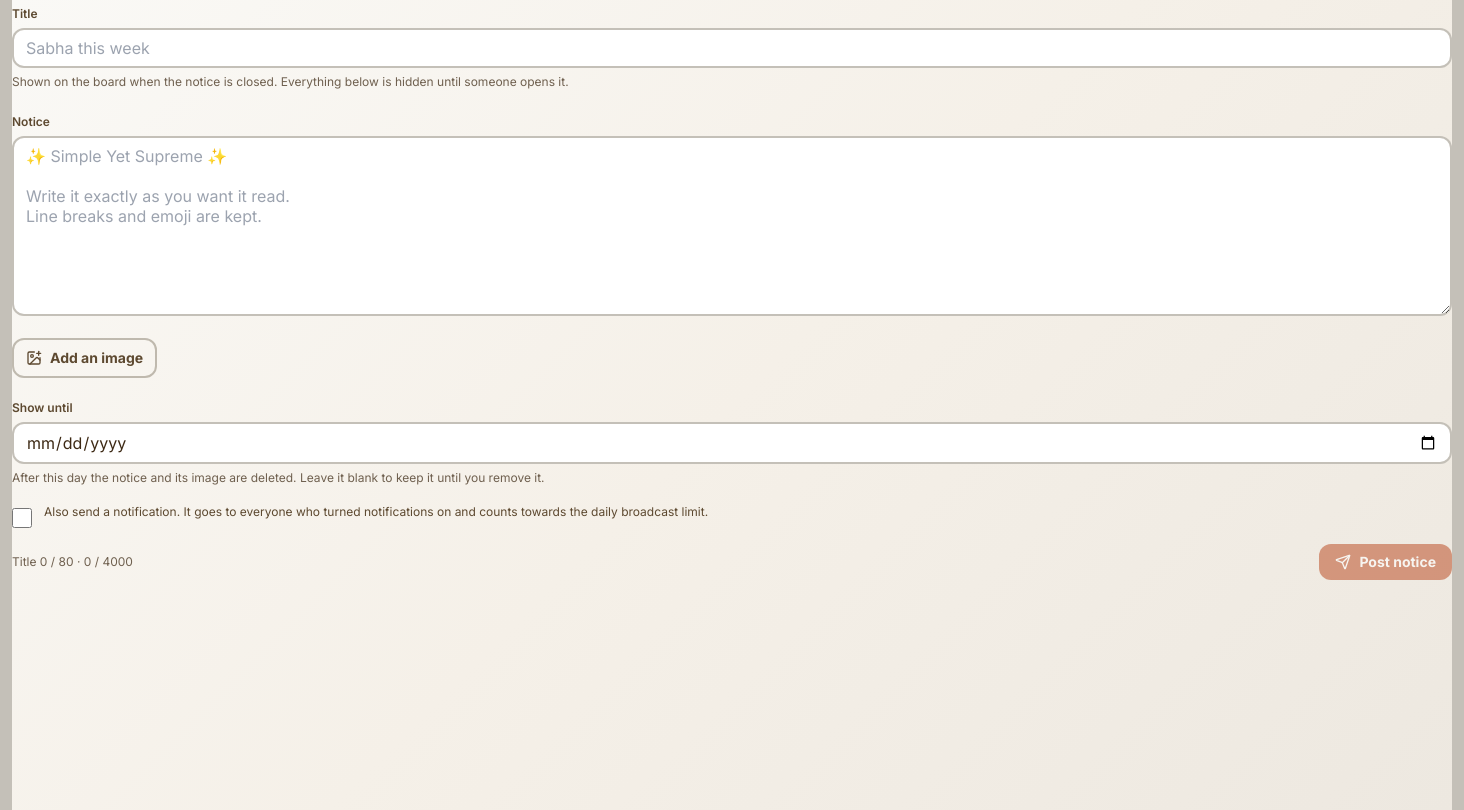
Test: the title field › surfaces the server refusal rather than clearing the form
The width and height of the screenshot is (1464, 810).
Type "Sabha moved" into the field labelled "Title" at (732, 48), box 12,28 -> 1452,68
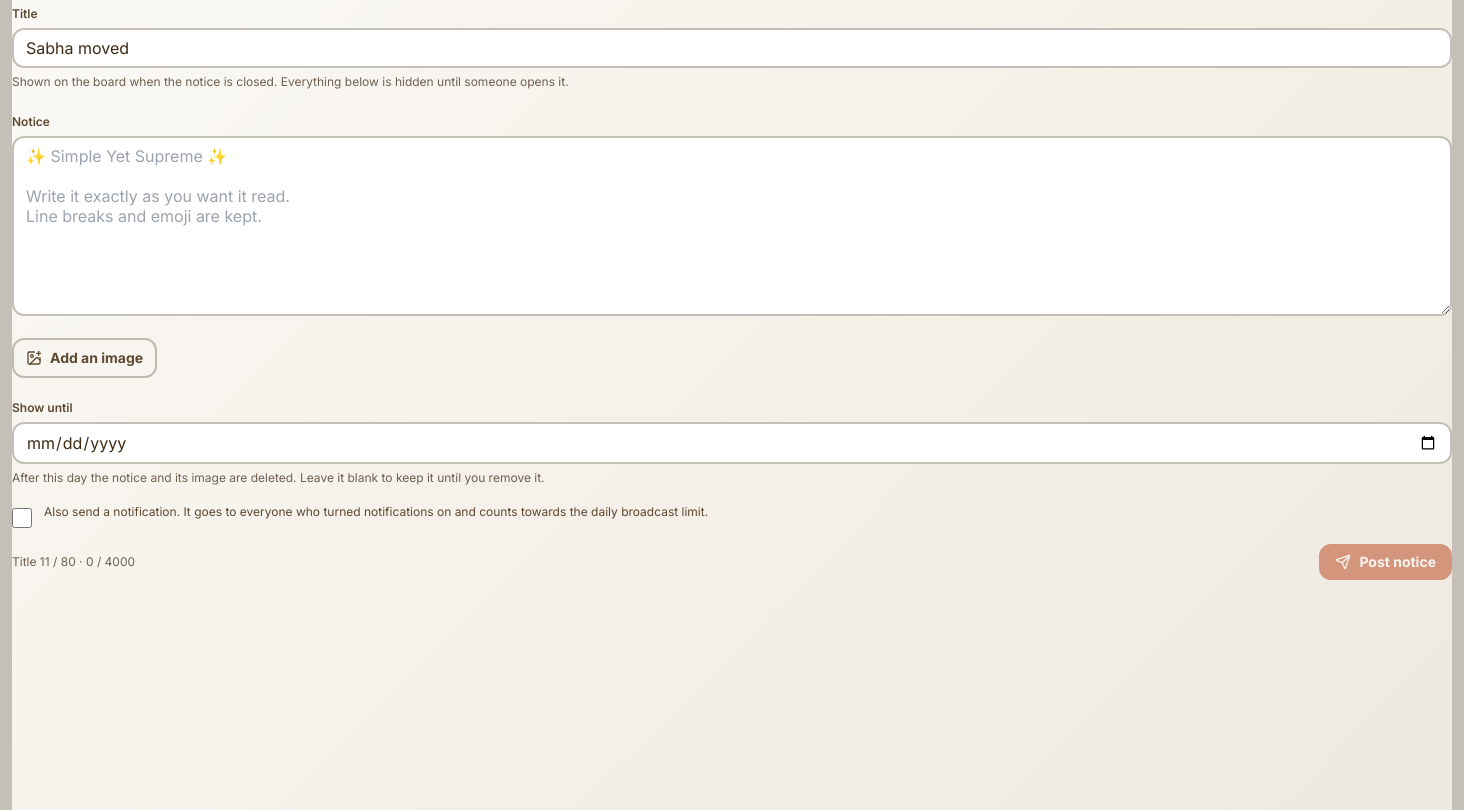
Replace the text in the text box labelled "Notice" with "x" at (732, 226), box 12,136 -> 1452,316
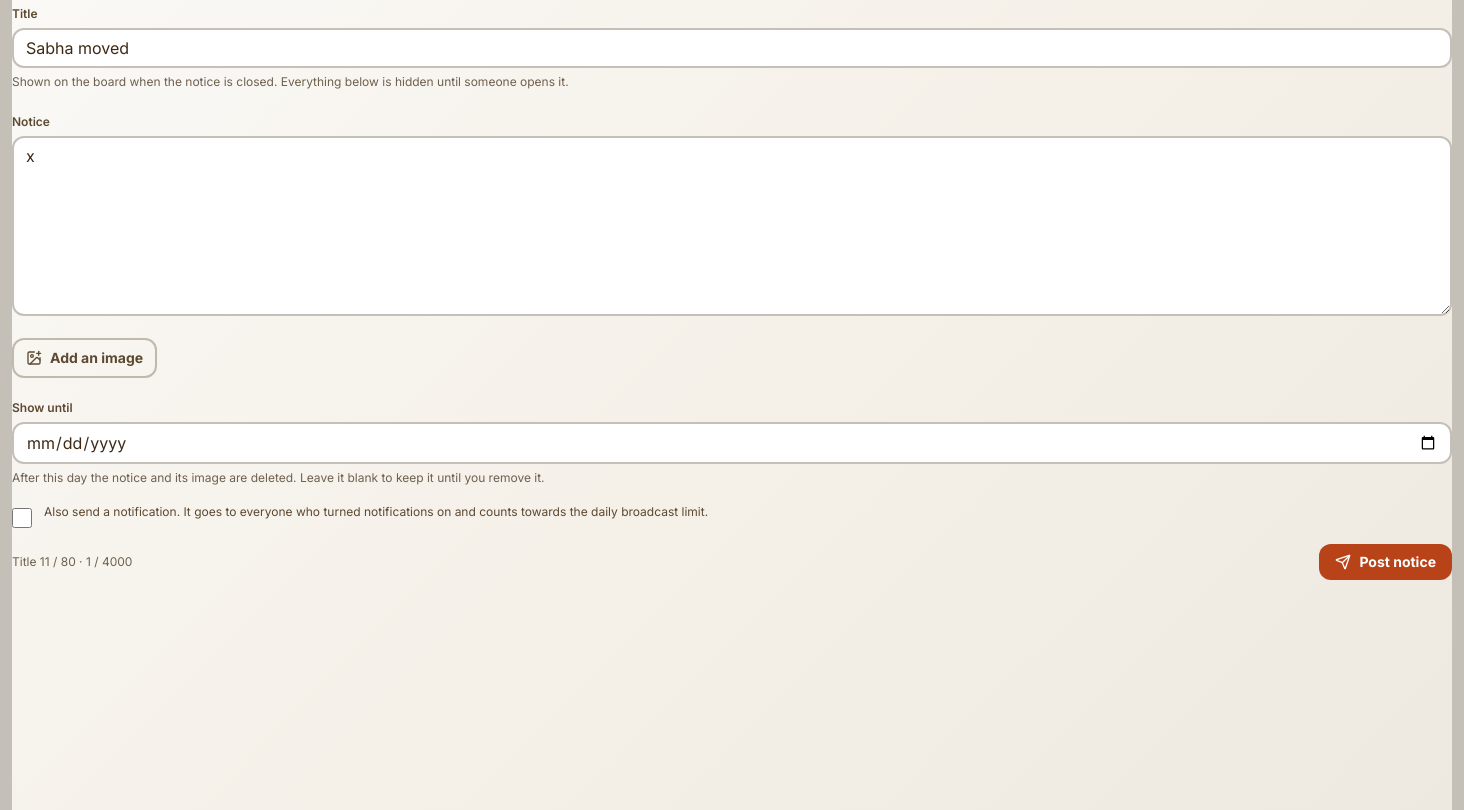
Click the button "Post notice" at (1386, 562), box 1319,544 -> 1452,580
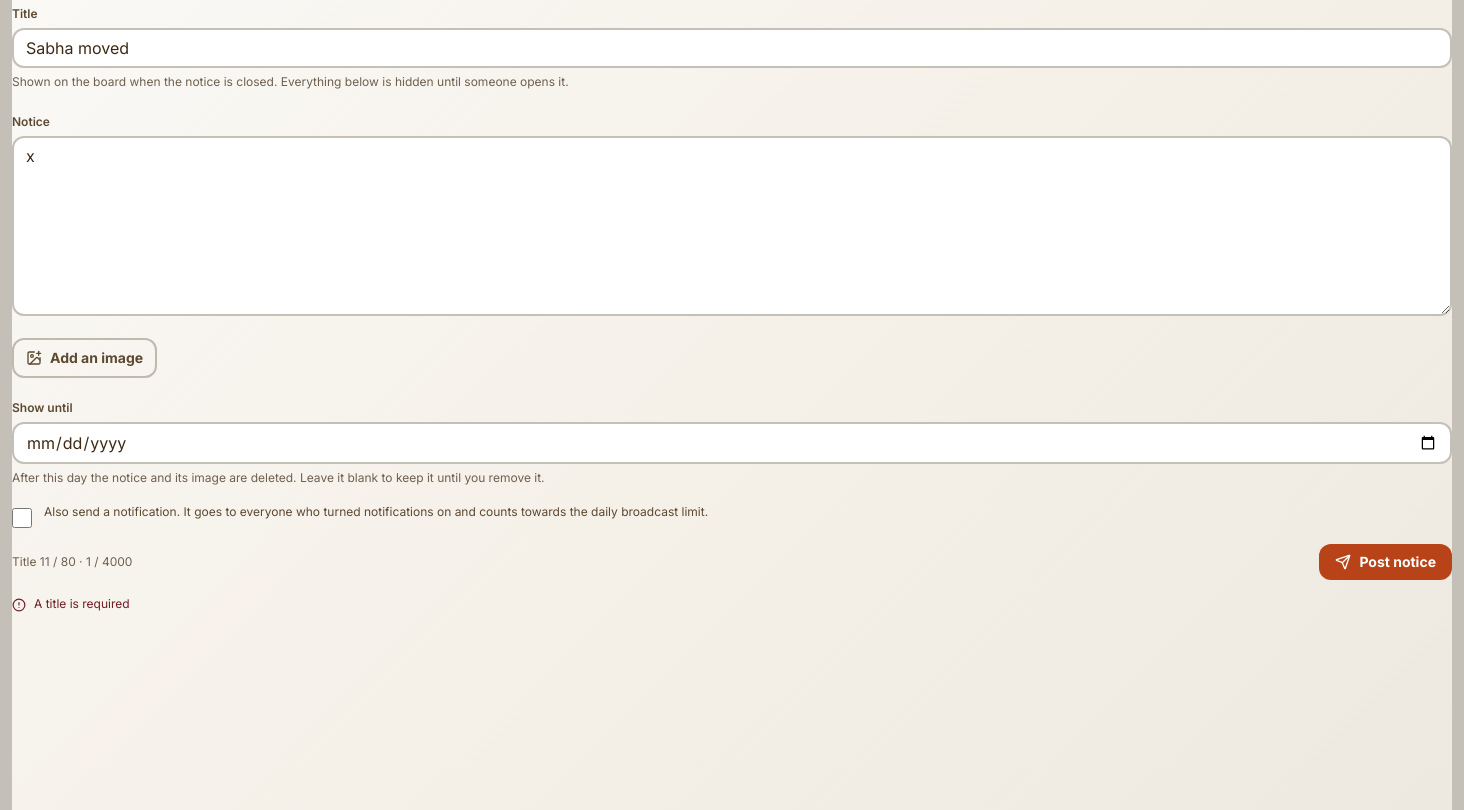
Expected: the text "A title is required" is shown, 12,596 -> 130,612
